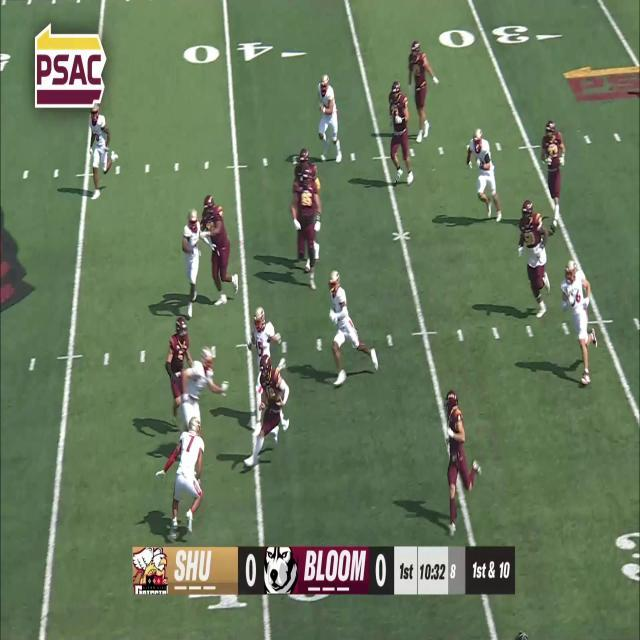football: (276, 388, 285, 404)
